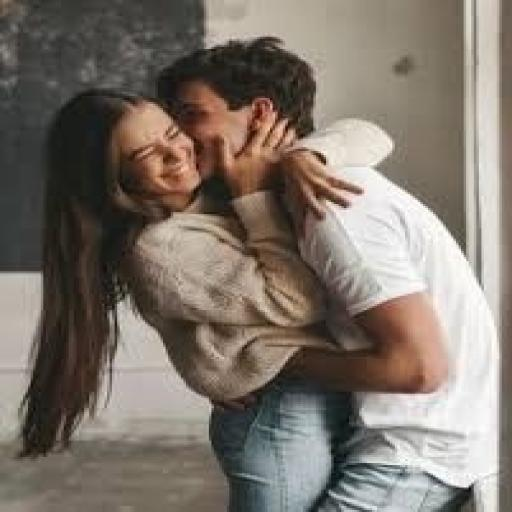hugging: (13, 35, 502, 510)
